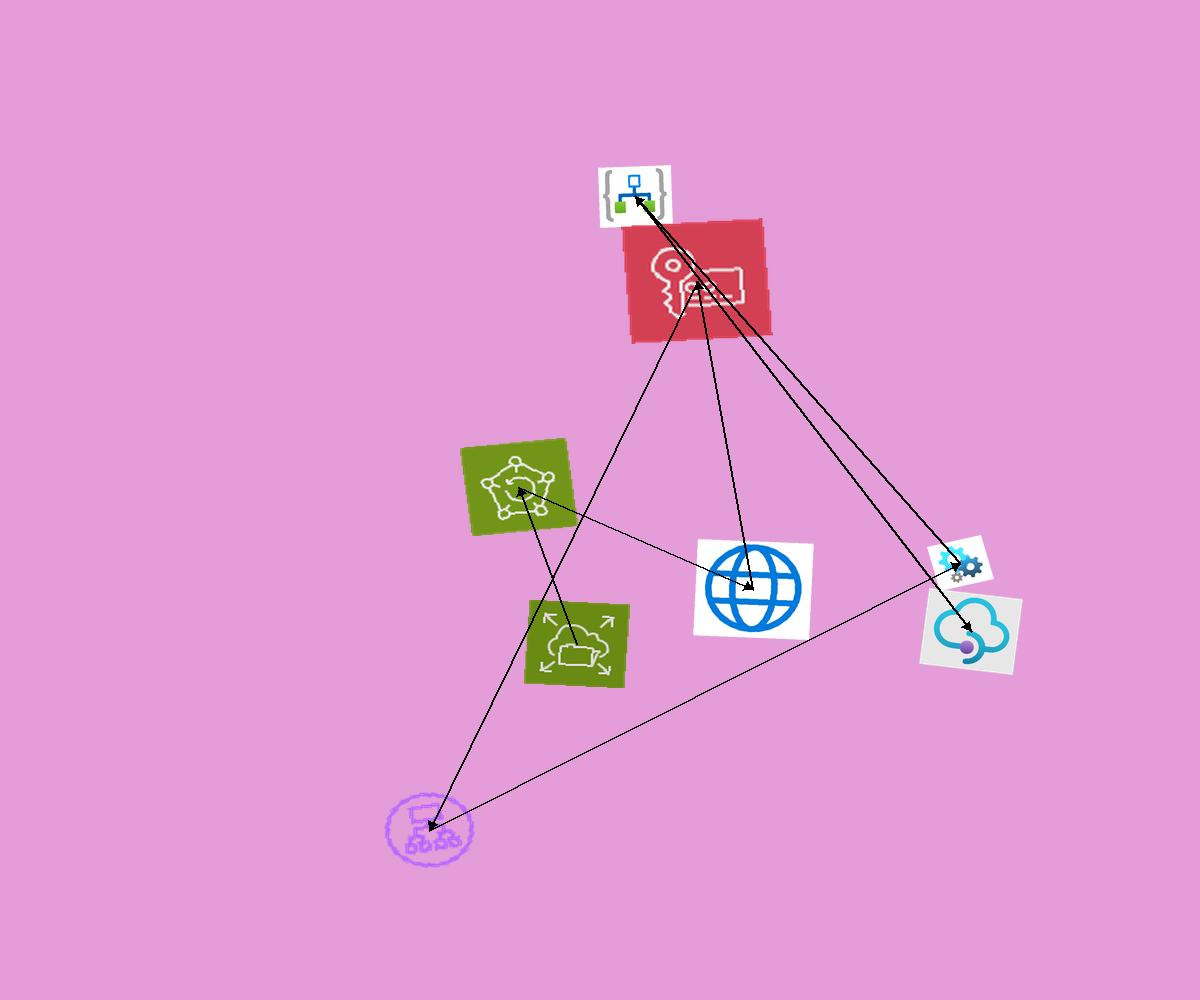AWS-Backup: (459, 437, 579, 537)
AWS-EFS: (523, 599, 631, 689)
AWS-Key-Management-Service: (621, 218, 773, 344)
AWS-Res_Elastic-Load-Balancing_Application-Load-Balancer: (371, 781, 488, 879)
Azure_api: (927, 535, 994, 591)
Azure_api_gateway: (919, 588, 1023, 675)
Azure_http: (693, 539, 814, 640)
Azure_integration-204-Logic-Apps: (598, 165, 673, 228)
